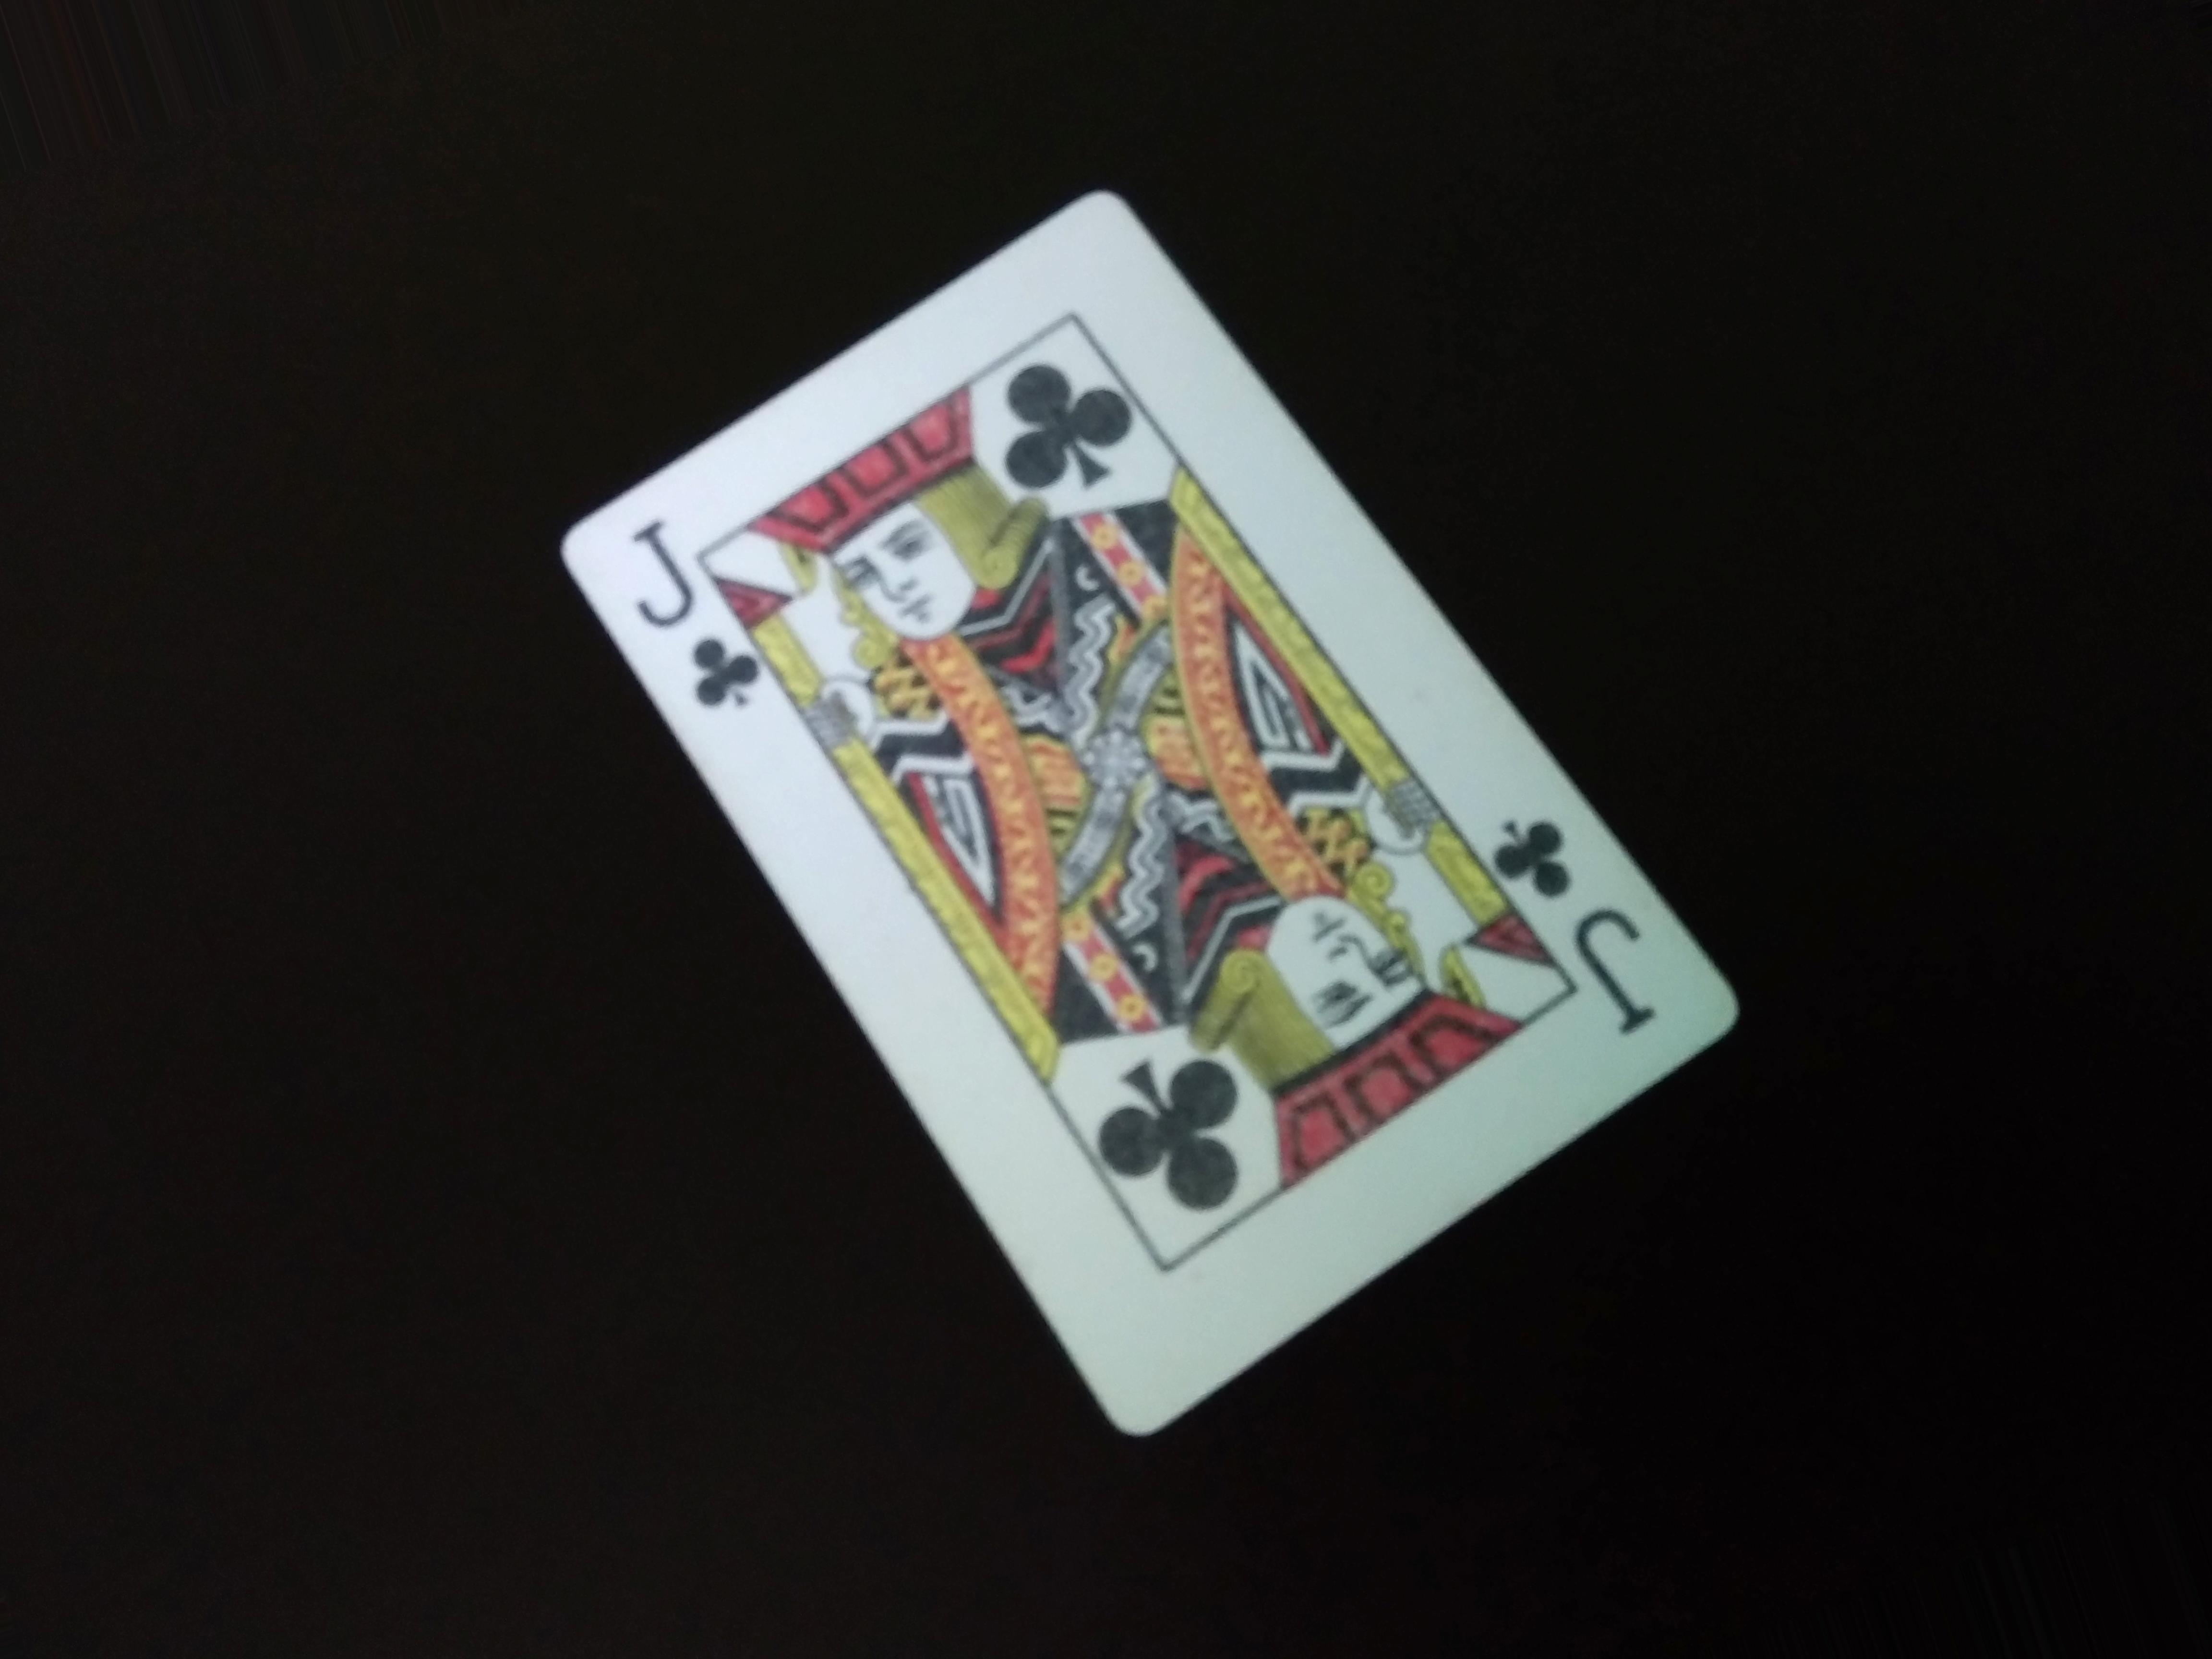JC: (617, 509, 759, 739)
